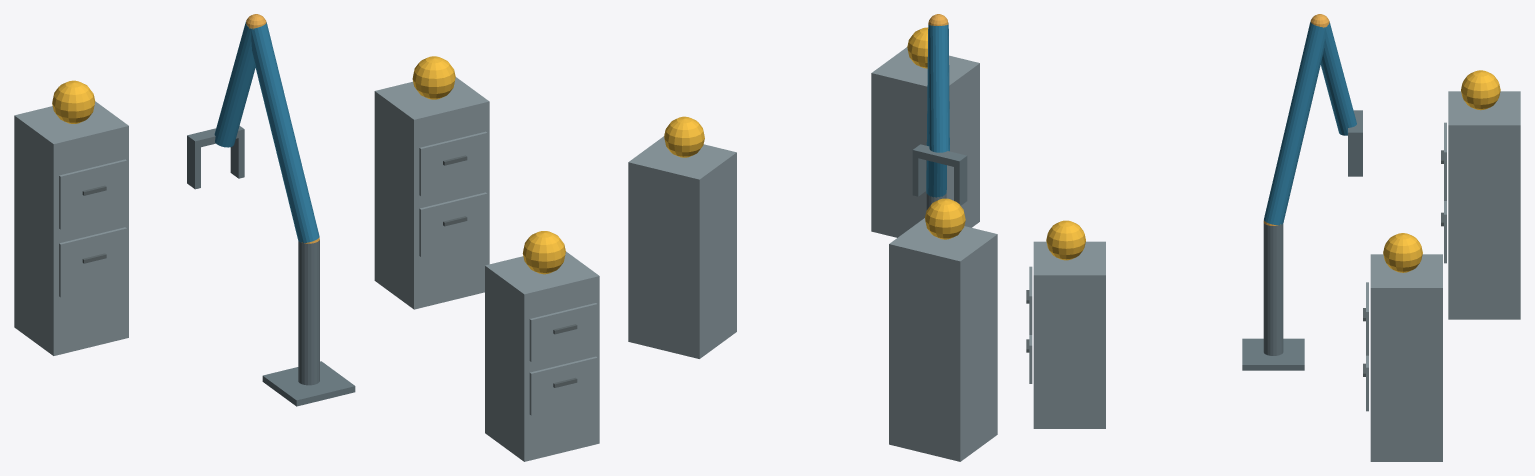
3 renders of one model, left to right at view 1: azimuth 30°, elevation 25°; view 2: azimuth 150°, elevation 25°; view 3: azimuth 270°, elevation 25°, orthographic. The views are drawn at different scales.
Visible parts, largest first — view 1: cabinet_3 body, cabinet_2 body, cabinet_1 body, moving link 1, cabinet_3 drawer front, cabinet_3 drawer front.001, cabinet_2 drawer front, cabinet_2 drawer front.001, fixed post, cabinet_1 drawer front, cabinet_1 drawer front.001, moving link 2 (+4 smaller); view 2: cabinet_3 body, cabinet_2 body, cabinet_1 body, moving link 2, ball ball_3, released ball_2, moving link 1, gripper bridge, released ball_1, gripper finger -1, gripper finger 1; view 3: cabinet_3 body, cabinet_2 body, cabinet_1 body, moving link 1, fixed post, moving link 2, pedestal, released ball_1, ball ball_3, released ball_2, gripper finger 1.
Boxes of the visible parts, x1=… form: cabinet_3 body: x1=14, y1=101, x2=128, y2=355; cabinet_2 body: x1=374, y1=77, x2=489, y2=309; cabinet_1 body: x1=485, y1=251, x2=599, y2=461; moving link 1: x1=251, y1=22, x2=319, y2=242; cabinet_3 drawer front: x1=59, y1=227, x2=126, y2=297; cabinet_3 drawer front.001: x1=59, y1=159, x2=126, y2=229; cabinet_2 drawer front: x1=419, y1=192, x2=487, y2=256; cabinet_2 drawer front.001: x1=419, y1=131, x2=487, y2=196; fixed post: x1=298, y1=239, x2=319, y2=385; cabinet_1 drawer front: x1=529, y1=356, x2=597, y2=415; cabinet_1 drawer front.001: x1=529, y1=303, x2=597, y2=361; moving link 2: x1=214, y1=22, x2=255, y2=147; cabinet_3 body: x1=889, y1=218, x2=997, y2=461; cabinet_2 body: x1=628, y1=136, x2=736, y2=358; cabinet_1 body: x1=871, y1=47, x2=979, y2=237; moving link 2: x1=928, y1=24, x2=949, y2=152; ball ball_3: x1=925, y1=198, x2=965, y2=239; released ball_2: x1=664, y1=116, x2=704, y2=157; moving link 1: x1=926, y1=23, x2=948, y2=197; gripper bridge: x1=912, y1=144, x2=967, y2=168; released ball_1: x1=907, y1=27, x2=928, y2=68; gripper finger -1: x1=954, y1=163, x2=967, y2=205; gripper finger 1: x1=912, y1=157, x2=925, y2=196; cabinet_3 body: x1=1448, y1=91, x2=1520, y2=319; cabinet_2 body: x1=1370, y1=254, x2=1442, y2=461; cabinet_1 body: x1=1033, y1=241, x2=1105, y2=428; moving link 1: x1=1264, y1=22, x2=1325, y2=225; fixed post: x1=1263, y1=223, x2=1283, y2=355; moving link 2: x1=1320, y1=21, x2=1356, y2=135; pedestal: x1=1242, y1=338, x2=1304, y2=370; released ball_1: x1=1046, y1=220, x2=1085, y2=260; ball ball_3: x1=1461, y1=70, x2=1500, y2=110; released ball_2: x1=1383, y1=233, x2=1422, y2=272; gripper finger 1: x1=1348, y1=139, x2=1362, y2=176.
Size of the model in its own units: 1.67 by 1.46 by 1.98.
